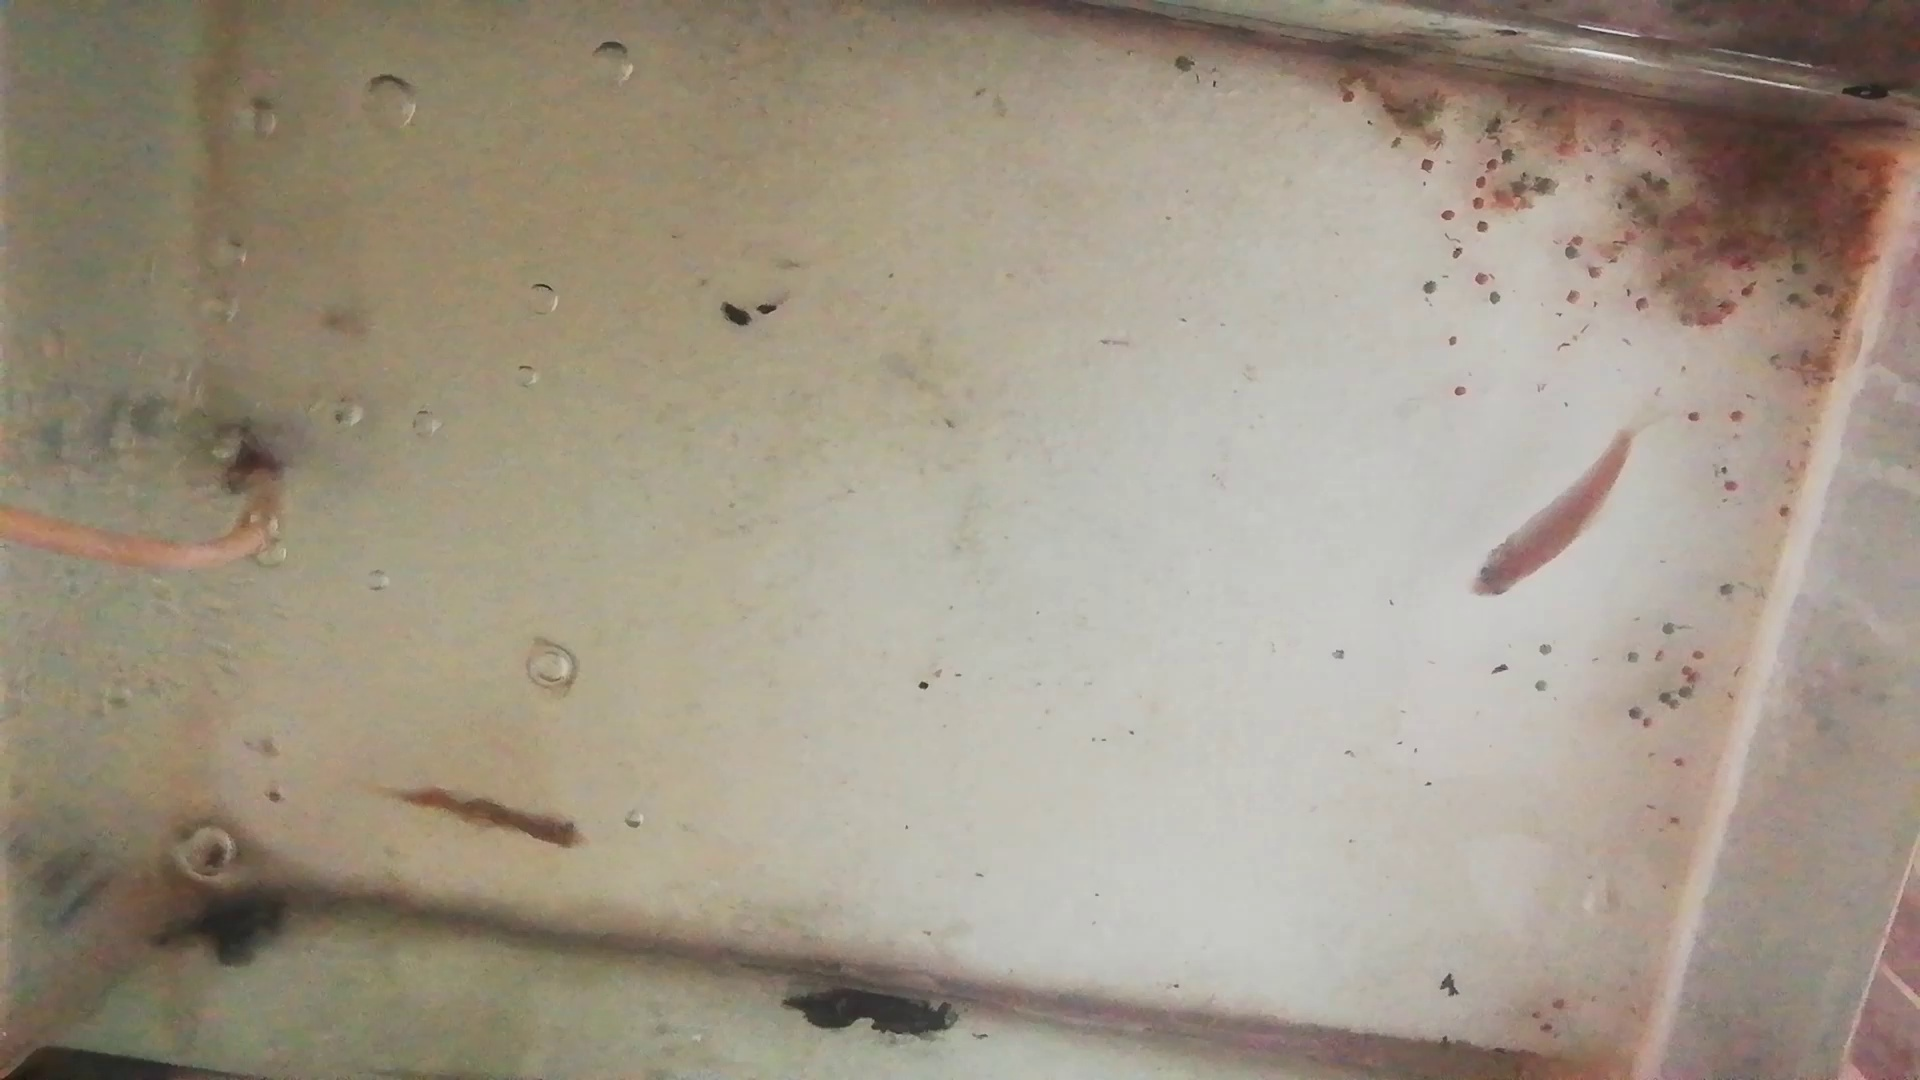fish: (1469, 435, 1633, 597), (386, 781, 591, 857)
